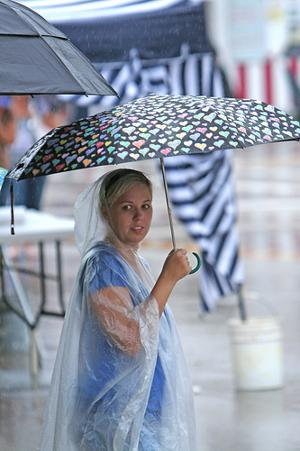person: (72, 169, 194, 450)
